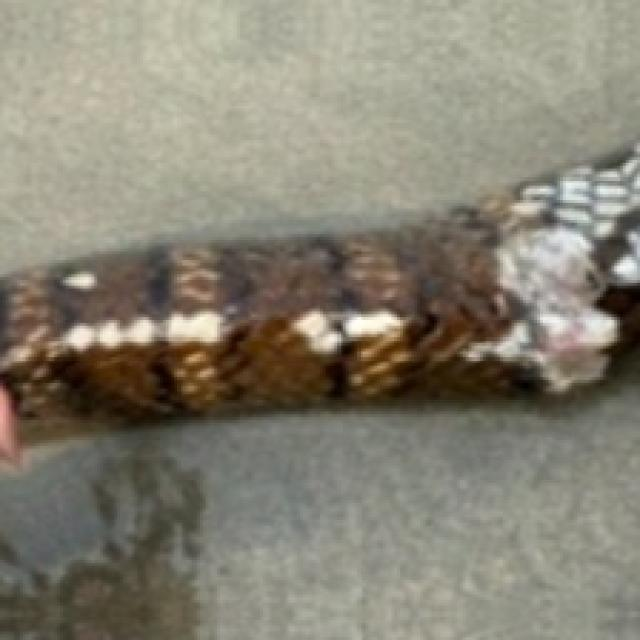king cobra: (0, 143, 637, 417), (29, 546, 177, 637), (3, 600, 34, 637)
